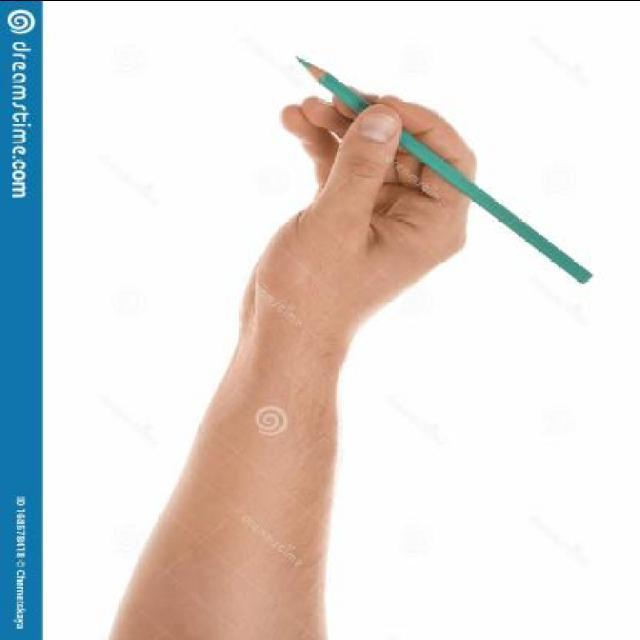pencil: (288, 51, 350, 97)
